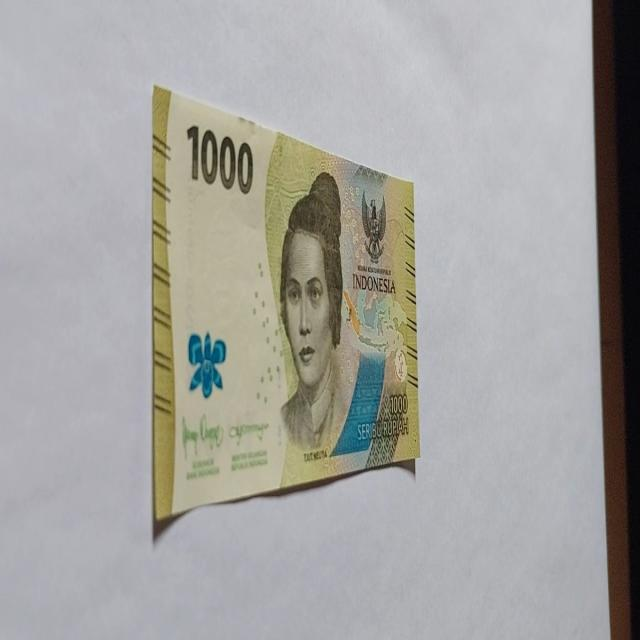seribu rupiah kertas: (151, 83, 419, 529)
